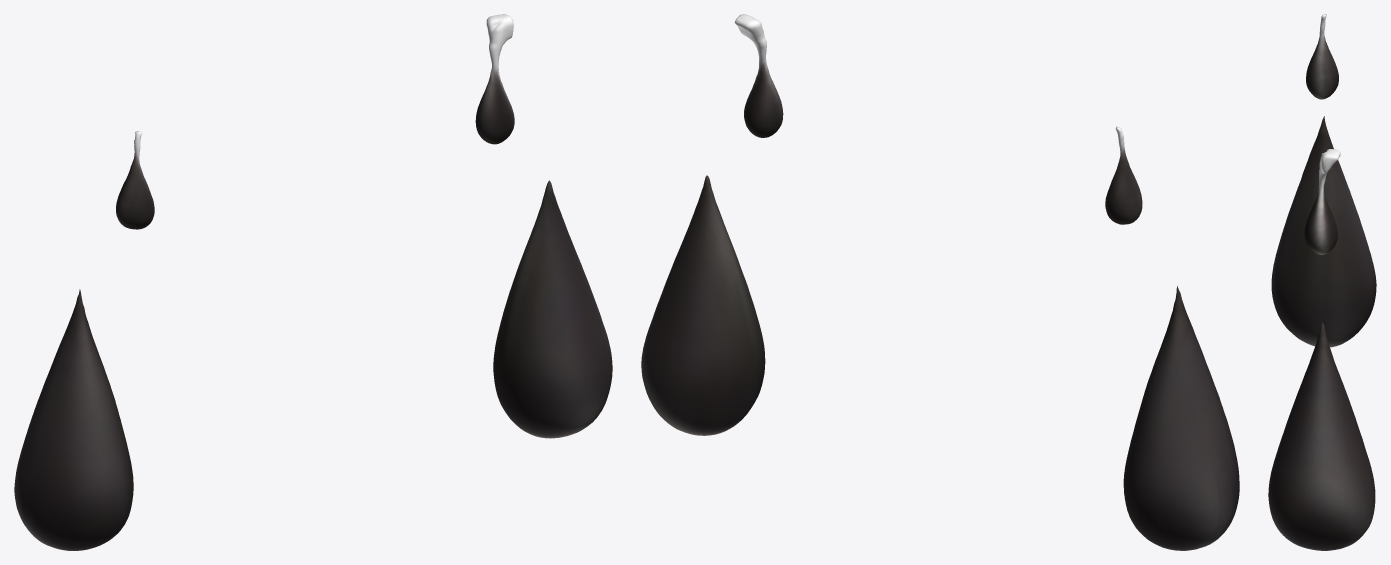
Rendered from black_tears9.glb.
3 renders of one model, left to right at view 1: azimuth 30°, elevation 25°; view 2: azimuth 150°, elevation 25°; view 3: azimuth 270°, elevation 25°, orthographic. The views are drawn at different scales.
Parts seen in each view (by area): view 1: lagrange_node; view 2: lagrange_node; view 3: lagrange_node.
Boxes of the visible parts, x1=… form: lagrange_node: x1=14, y1=14, x2=612, y2=550; lagrange_node: x1=641, y1=14, x2=1239, y2=550; lagrange_node: x1=1268, y1=14, x2=1376, y2=550.
Size of the model in its own units: 1.78 by 1.24 by 0.3244.
1 material, 1 textured.
